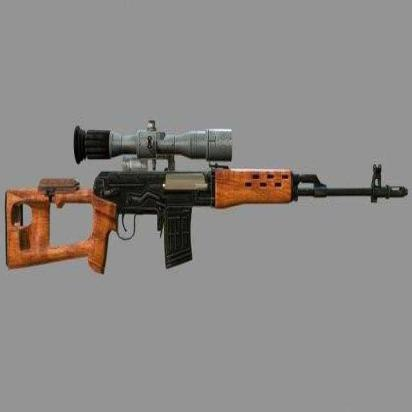Gun: (5, 123, 408, 270)
